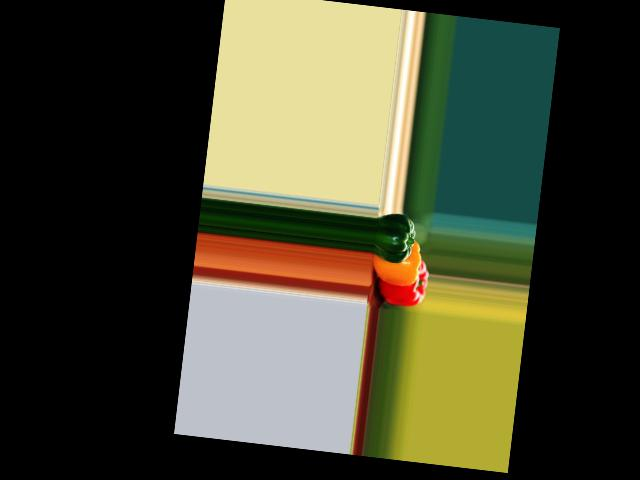bell_pepper: (369, 254, 429, 307)
